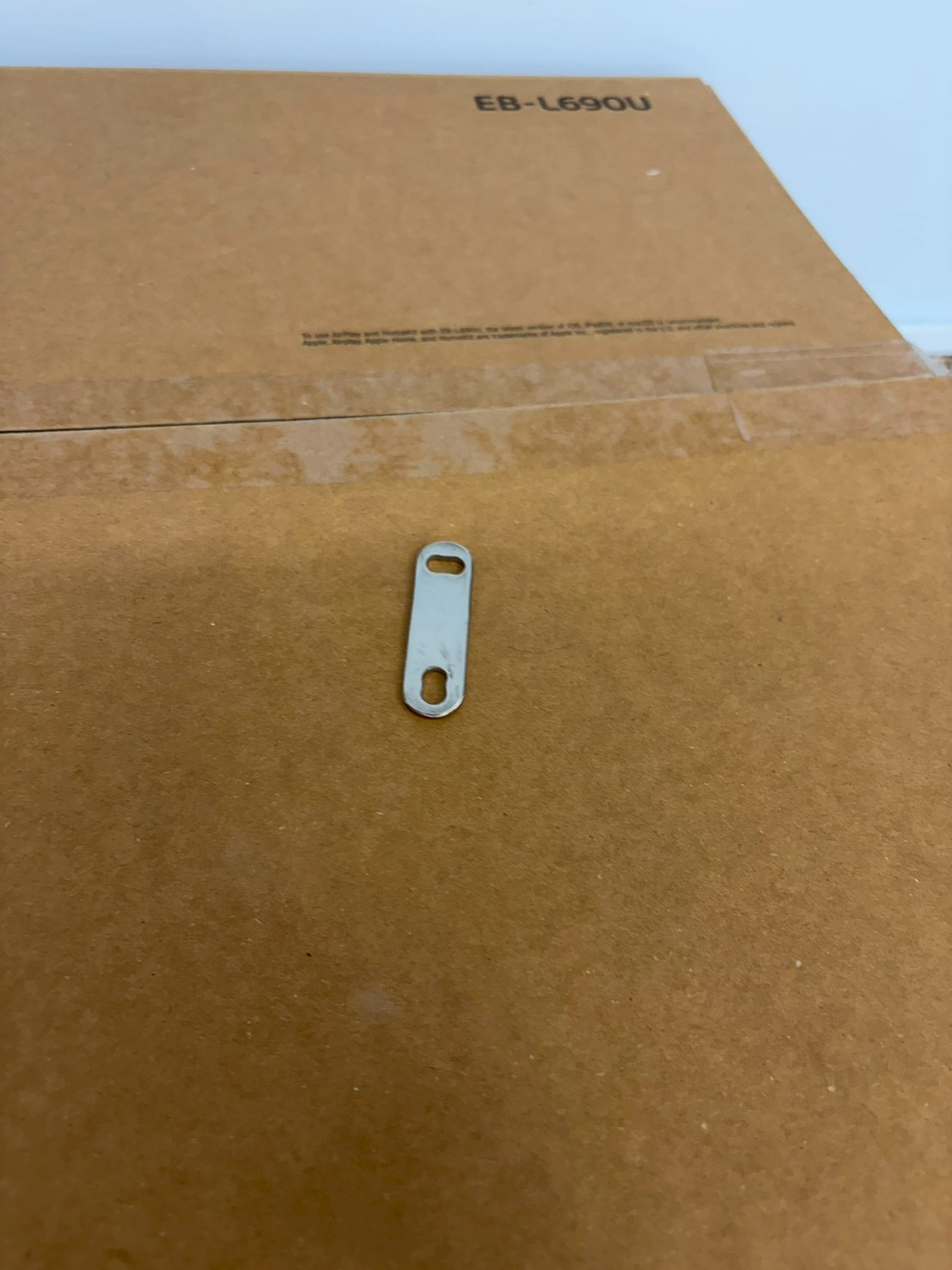Fe: (395, 537, 492, 719)
